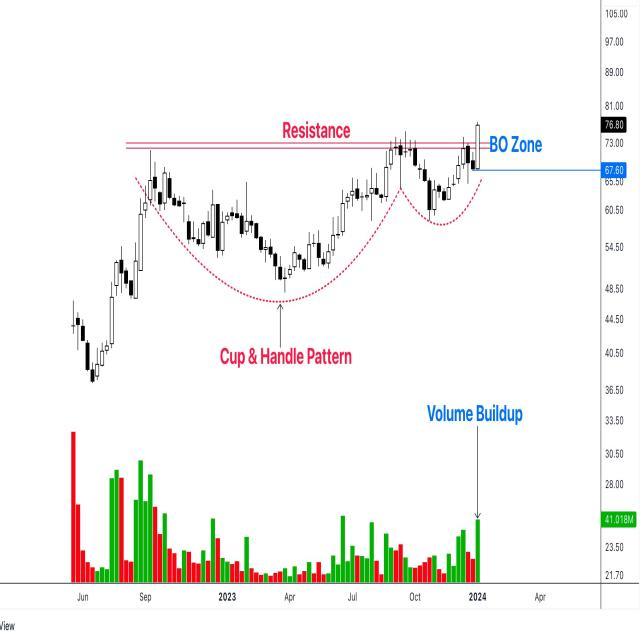Cup-and-handle: (142, 145, 487, 293)
